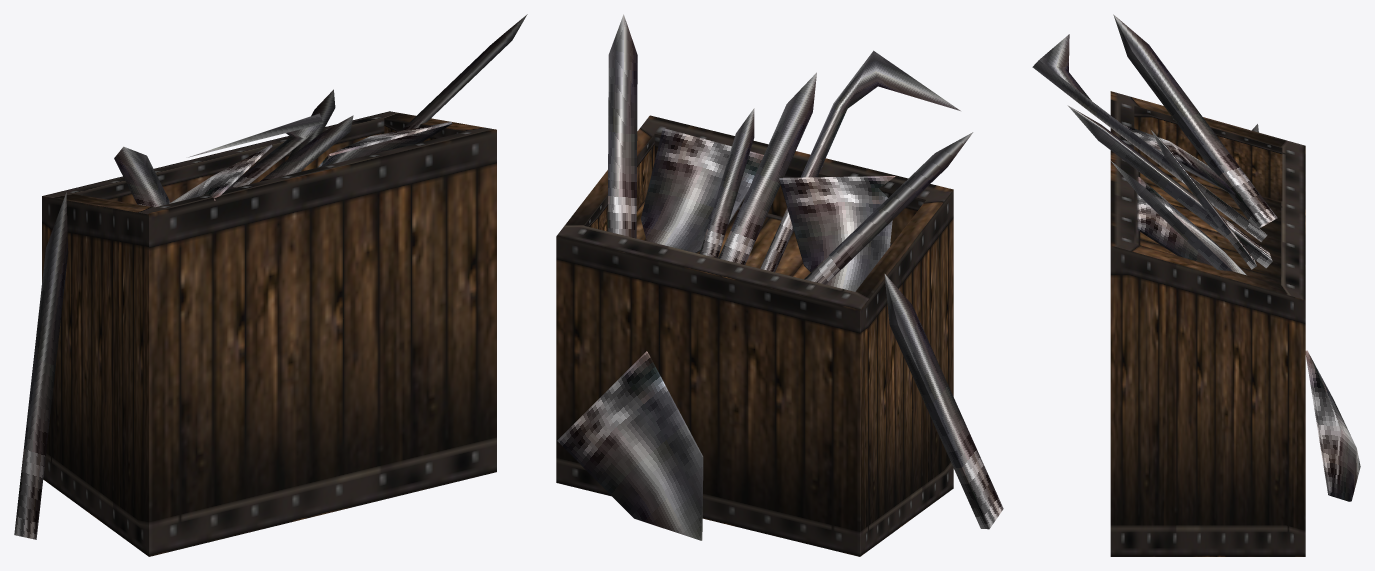
File: House02.obj
3 views of the same model, side by side, from view 1: azimuth 30°, elevation 25°; view 2: azimuth 150°, elevation 25°; view 3: azimuth 270°, elevation 25° (orthographic). The views are drawn at different scales.
Visible parts, largest first — view 1: Mesh_0, Mesh_1; view 2: Mesh_0, Mesh_1; view 3: Mesh_0, Mesh_1.
Part boxes in pixels (x1,y1,x2,y2): Mesh_0: (42, 111, 496, 556); Mesh_1: (14, 14, 527, 539); Mesh_0: (556, 115, 953, 556); Mesh_1: (557, 14, 1003, 540); Mesh_0: (1110, 91, 1305, 556); Mesh_1: (1032, 14, 1360, 501).
Bounding box in the file's own units: 2.04 × 1.89 × 1.37.
Materials: 2 (2 with a texture image).
